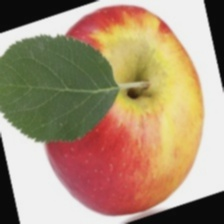apple: (11, 17, 168, 214)
